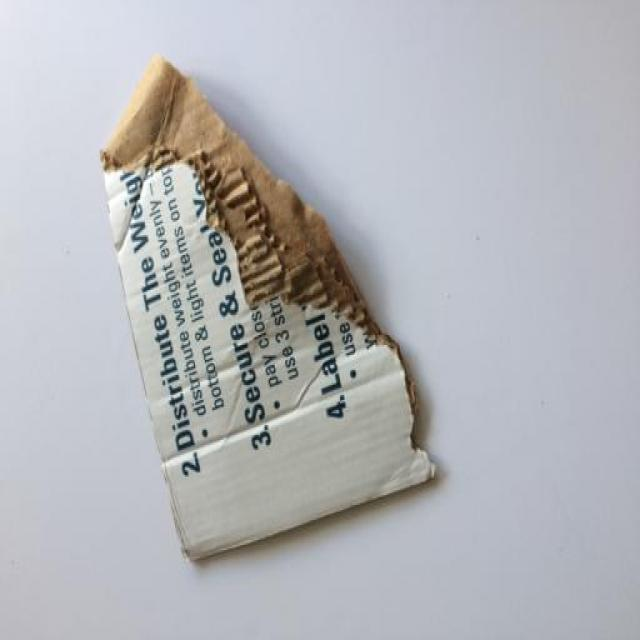cardboard: (86, 42, 471, 596)
